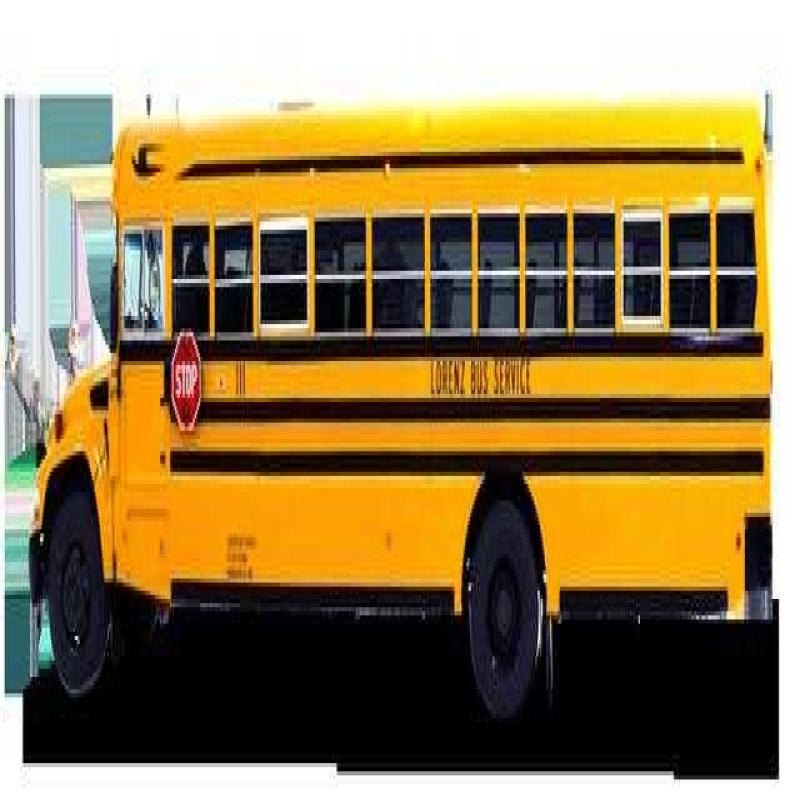bus: (35, 98, 769, 710)
